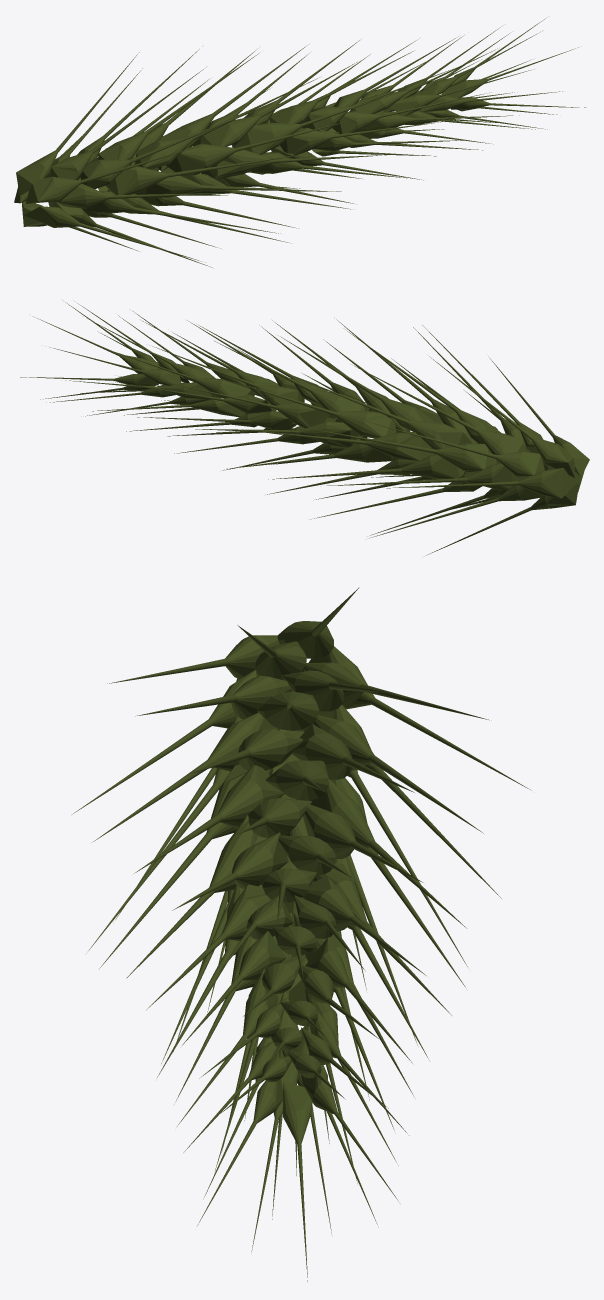
File: WheatSpike.obj
3 renders of one model, top to bottom at view 1: azimuth 30°, elevation 25°; view 2: azimuth 150°, elevation 25°; view 3: azimuth 270°, elevation 25°, orthographic. The views are drawn at different scales.
Visible parts, largest first — view 1: fruit; view 2: fruit; view 3: fruit.
Part boxes in pixels (x1,y1,x2,y2): fruit: (14,18,586,267); fruit: (20,302,589,555); fruit: (72,587,530,1281).
Size of the model in its own units: 1.11 by 0.4113 by 0.4154.
